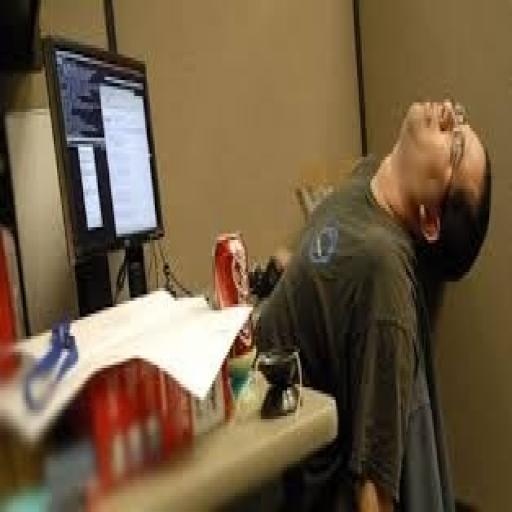sleeping: (250, 90, 492, 508)
